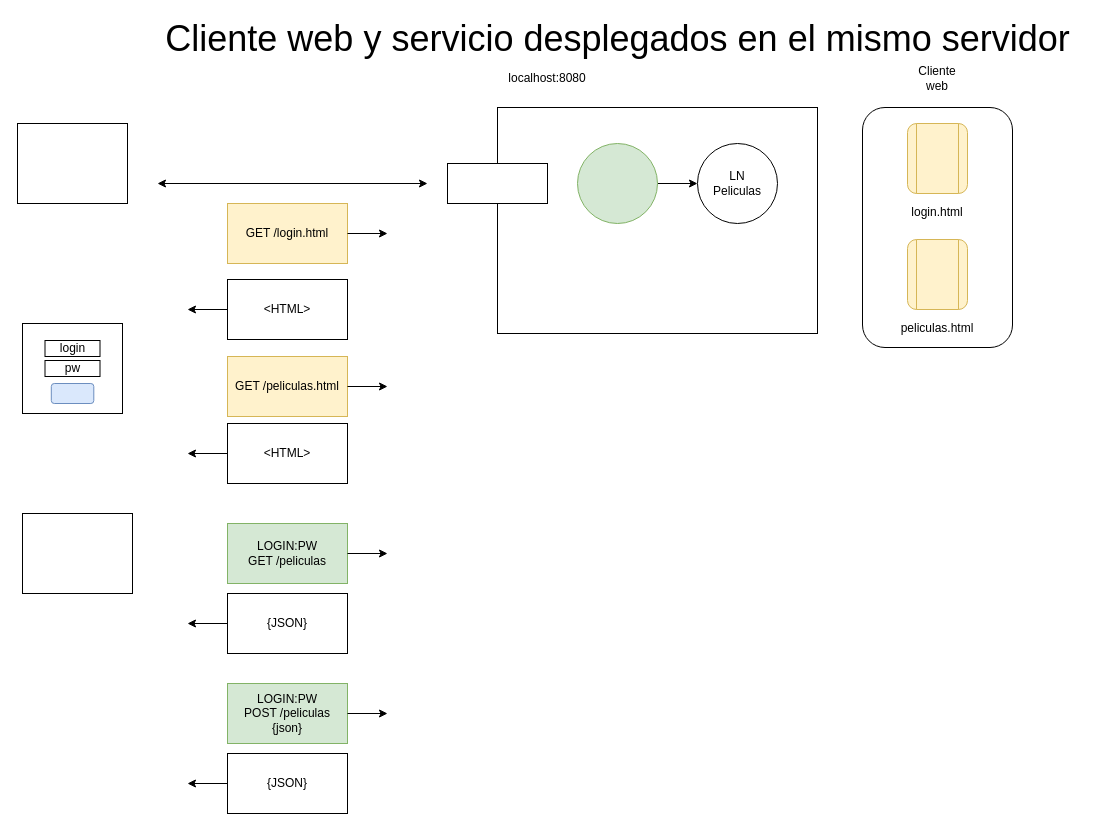
This 1117x831 diagram has some shape labels left out. Here are the shapes that lost their labels. From the top down, the box of each, then its label:
(446, 162, 548, 204): REST
(576, 142, 658, 224): Endpoint
(50, 382, 94, 404): Entrar
